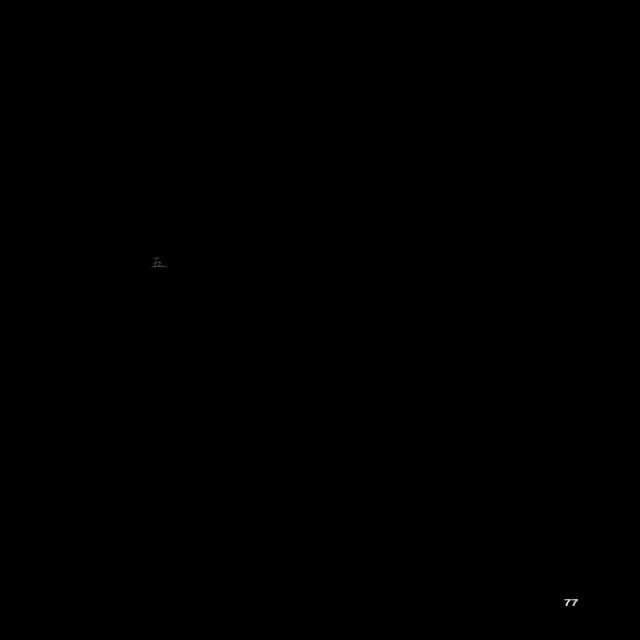5 -five-: (150, 256, 166, 268)
